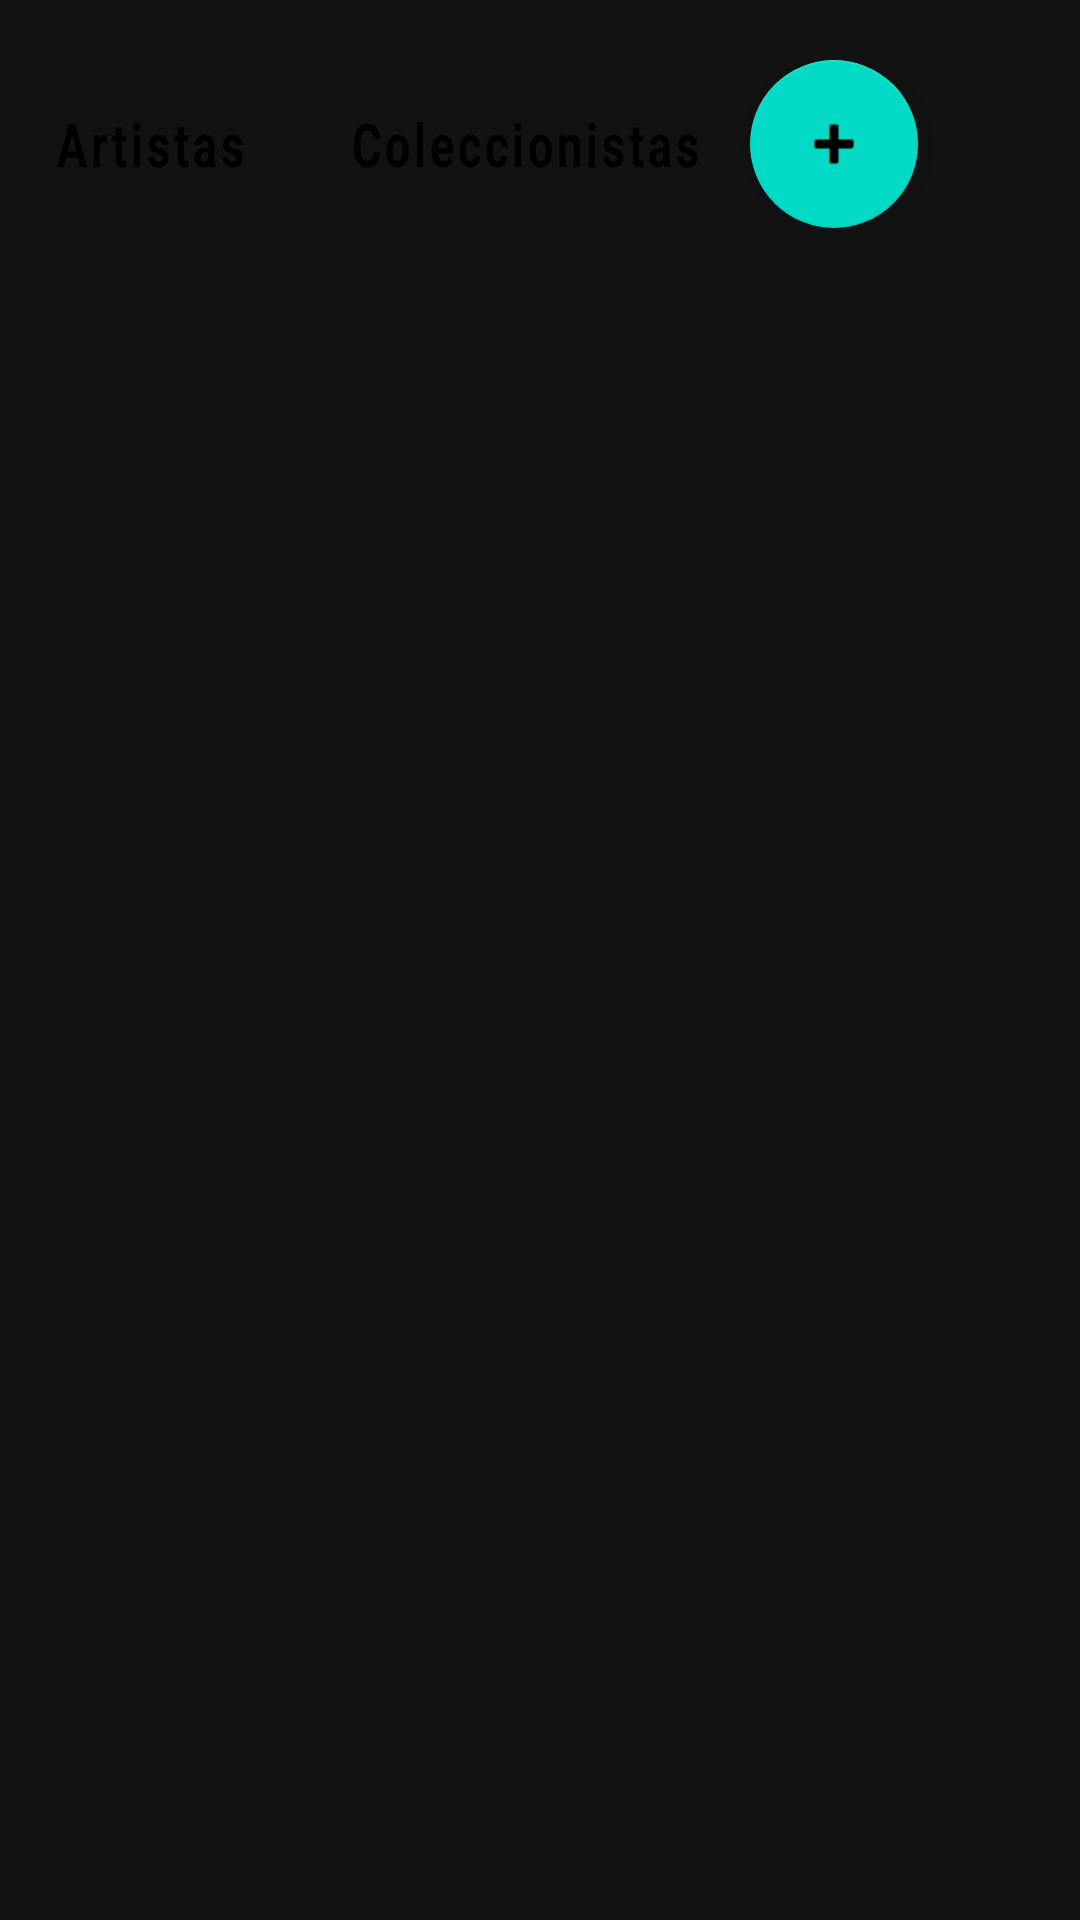

Icons on this 1080x1920 Android screen, each with its box as [x1,y1,x2,y2]:
Botón para crear un álbum: [750,60,918,228]
